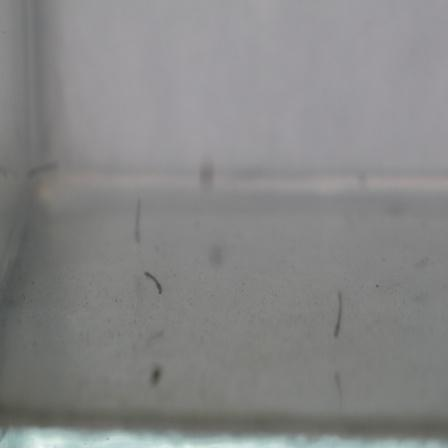Jentik-Nyamuk: (139, 264, 169, 301), (328, 287, 348, 340)
